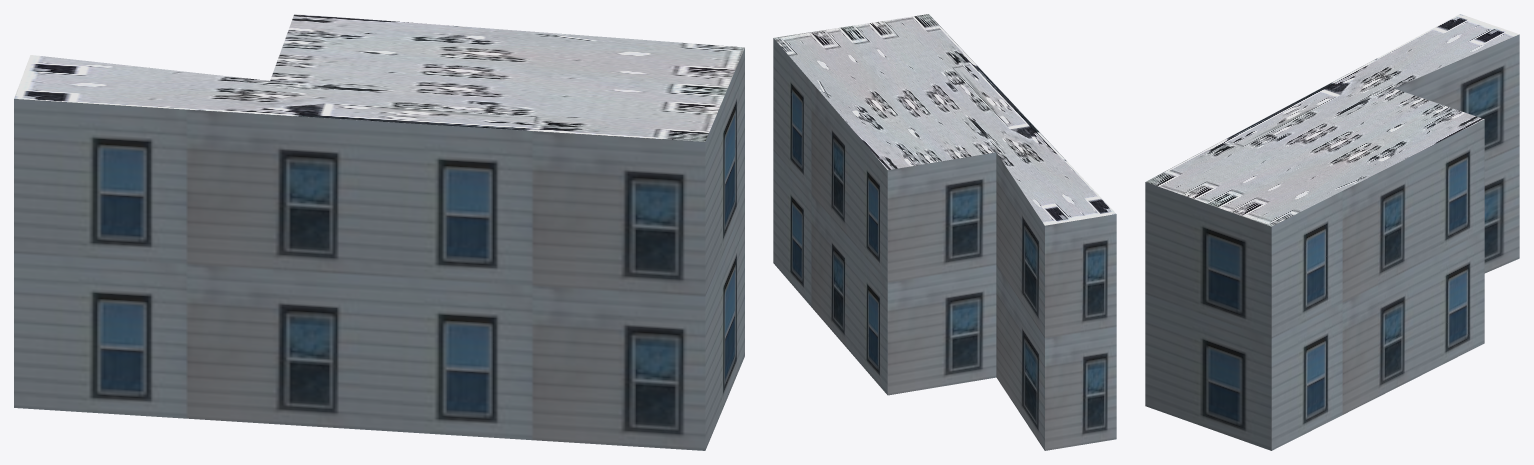
The model's file is ResTex__5029.fbx.
3 renders of one model, left to right at view 1: azimuth 30°, elevation 25°; view 2: azimuth 150°, elevation 25°; view 3: azimuth 270°, elevation 25°, orthographic. The views are drawn at different scales.
Visible parts, largest first — view 1: CityEngineMaterial_18_m, CityEngineMaterial_m; view 2: CityEngineMaterial_18_m, CityEngineMaterial_m; view 3: CityEngineMaterial_18_m, CityEngineMaterial_m.
Part boxes in pixels (left/top/right/bottom): CityEngineMaterial_18_m: left=14, top=48, right=744, bottom=450; CityEngineMaterial_m: left=14, top=14, right=744, bottom=141; CityEngineMaterial_18_m: left=773, top=38, right=1116, bottom=450; CityEngineMaterial_m: left=774, top=14, right=1115, bottom=225; CityEngineMaterial_18_m: left=1145, top=34, right=1519, bottom=450; CityEngineMaterial_m: left=1146, top=14, right=1518, bottom=226.
Bounding box in the file's own units: 12.21 × 6 × 9.08.
2 materials, 2 textured.
